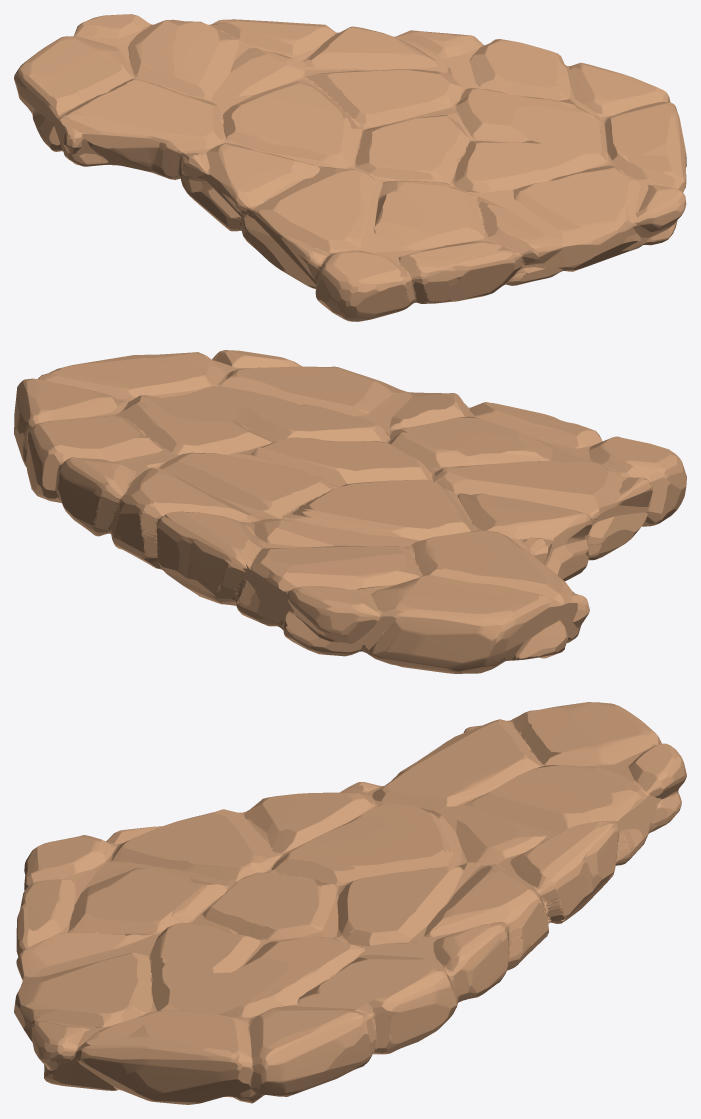
The picture shows the model from 3 angles, top to bottom: view 1: azimuth 30°, elevation 25°; view 2: azimuth 150°, elevation 25°; view 3: azimuth 270°, elevation 25°; orthographic projection. The views are drawn at different scales.
Visible parts, largest first — view 1: Mesh_10_LOD0; view 2: Mesh_10_LOD0; view 3: Mesh_10_LOD0.
Boxes of the visible parts, bbox=[...] form: Mesh_10_LOD0: bbox=[14, 14, 686, 321]; Mesh_10_LOD0: bbox=[14, 350, 686, 673]; Mesh_10_LOD0: bbox=[14, 702, 686, 1104].
Size of what is drawn, in the model's own units: 4909 by 1088 by 4480.
